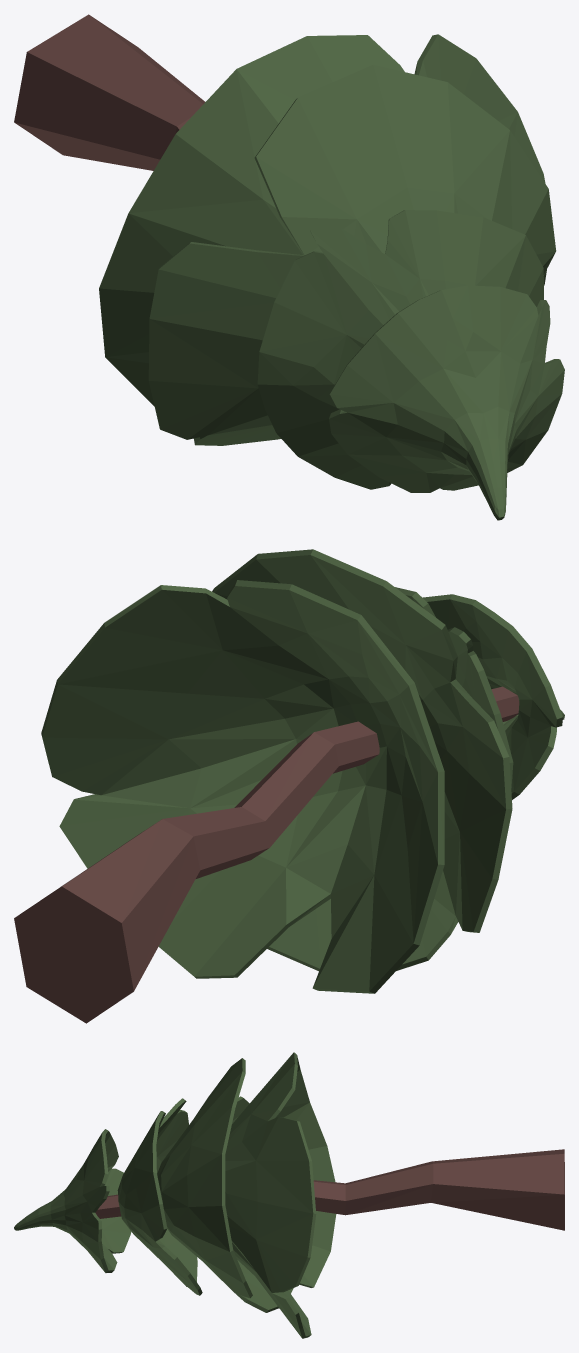
The model's file is tree-pine-5-60-ft.obj.
3 views of the same model, one above another, from view 1: azimuth 30°, elevation 25°; view 2: azimuth 150°, elevation 25°; view 3: azimuth 270°, elevation 25° (orthographic). The views are drawn at different scales.
Parts seen in each view (by area): view 1: tree-pine-5-60-ft; view 2: tree-pine-5-60-ft; view 3: tree-pine-5-60-ft.
Boxes of the visible parts, box(x1,y1,x2,y2) form: tree-pine-5-60-ft: box(14, 14, 564, 520); tree-pine-5-60-ft: box(14, 549, 564, 1023); tree-pine-5-60-ft: box(14, 1052, 564, 1338).
Size of the model in its own units: 393 by 358 by 720.
